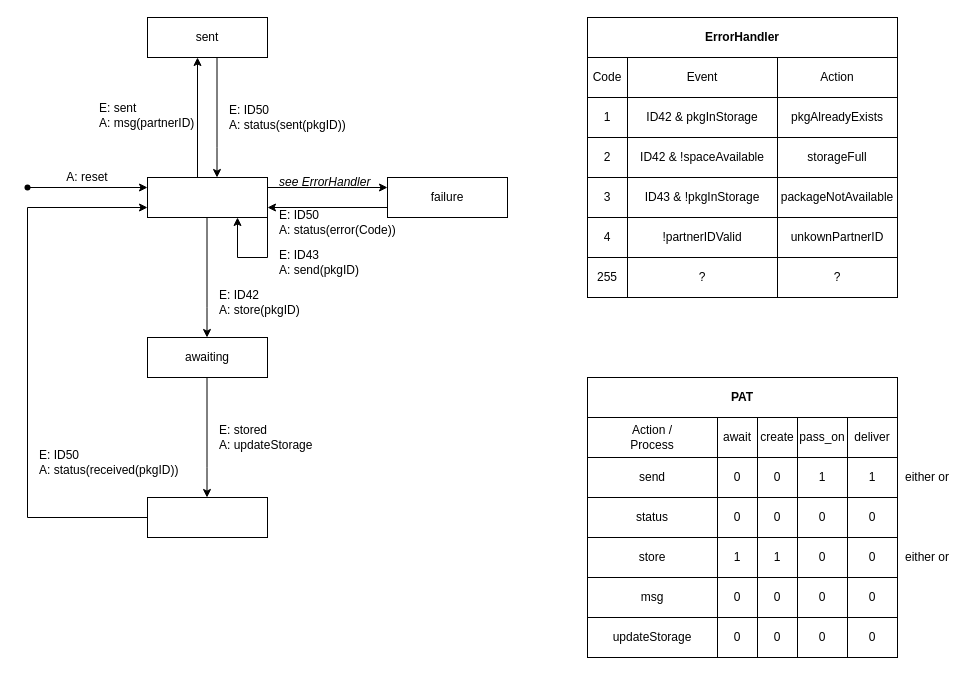
The diagram is 975 pixels wide and 675 high, and some of its shapes have lost their labels. Each missing label, with the centre of its shape:
"processing" belongs at (207,197).
"received" belongs at (207,517).
